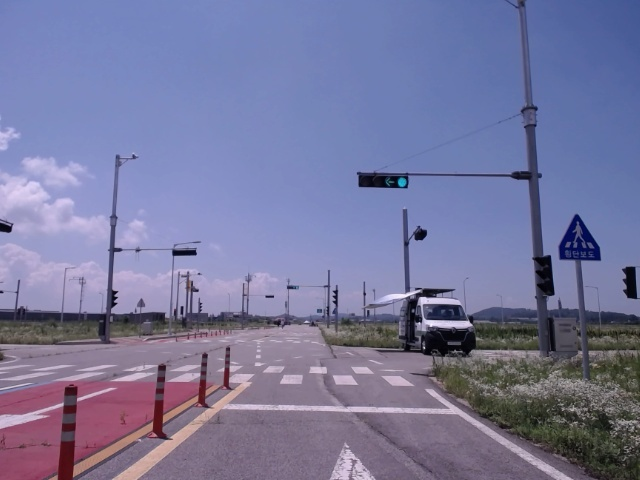all_green_4: (353, 170, 409, 186)
